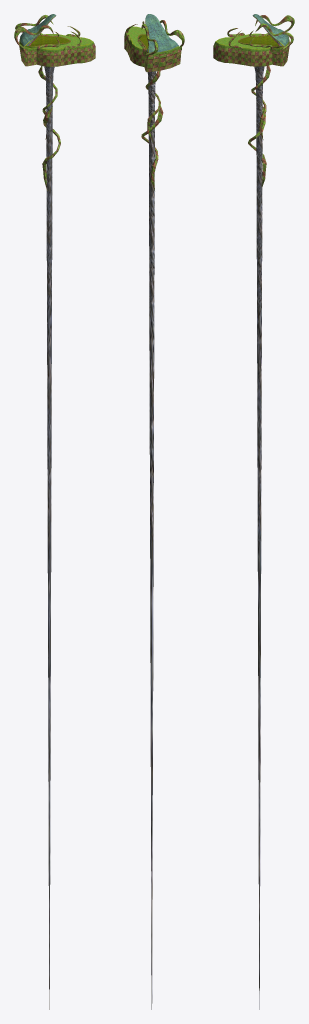
Rendered from Frog Forest 14.obj.
3 views of the same model, side by side, from view 1: azimuth 90°, elevation 25°; view 2: azimuth 210°, elevation 25°; view 3: azimuth 270°, elevation 25° (orthographic).
Parts seen in each view (by area): view 1: Object_2, Object_2.001; view 2: Object_2, Object_2.001; view 3: Object_2, Object_2.001.
Part boxes in pixels (x1=…): Object_2: x1=14, y1=14, x2=95, y2=1009; Object_2.001: x1=30, y1=34, x2=93, y2=49; Object_2: x1=124, y1=14, x2=184, y2=1009; Object_2.001: x1=128, y1=26, x2=148, y2=49; Object_2: x1=213, y1=14, x2=294, y2=1009; Object_2.001: x1=215, y1=33, x2=278, y2=49.
Bounding box in the file's own units: 229 × 6000 × 446.
